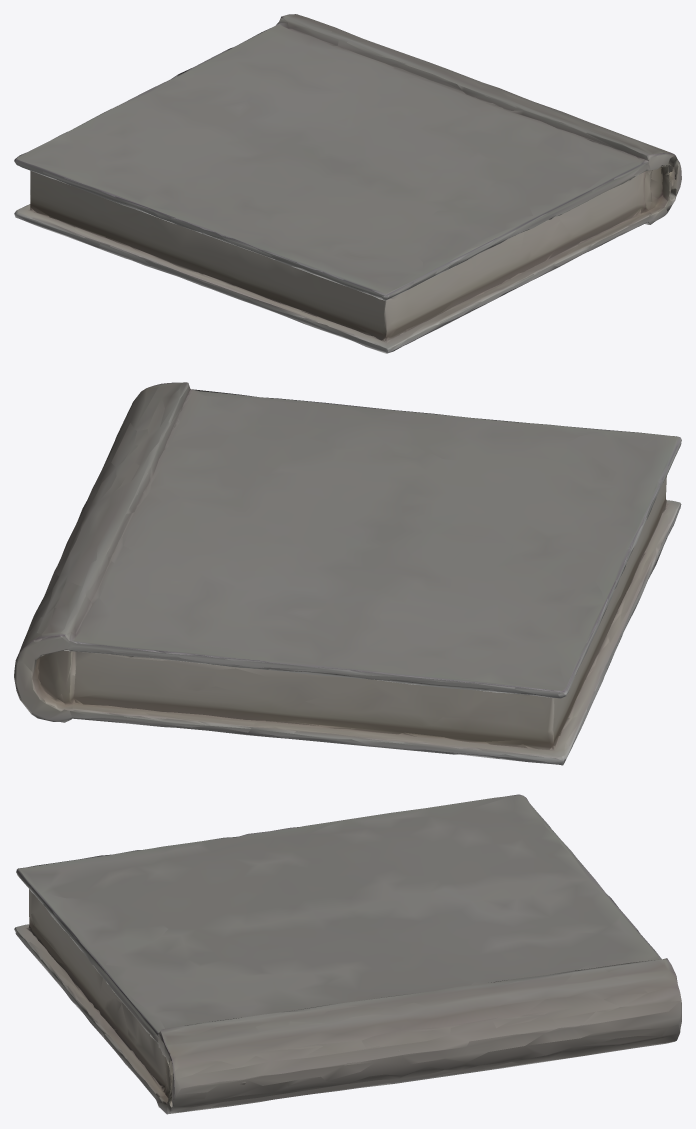
Rendered from 0008_mask_009_notebook.glb.
3 renders of one model, top to bottom at view 1: azimuth 30°, elevation 25°; view 2: azimuth 150°, elevation 25°; view 3: azimuth 270°, elevation 25°, orthographic. The views are drawn at different scales.
Parts seen in each view (by area): view 1: mask_009_object; view 2: mask_009_object; view 3: mask_009_object.
Boxes of the visible parts, <box> form: mask_009_object: <box>14,14,681,353</box>; mask_009_object: <box>14,382,681,765</box>; mask_009_object: <box>14,794,681,1114</box>.
Bounding box in the file's own units: 0.2859 × 0.0394 × 0.2989.
